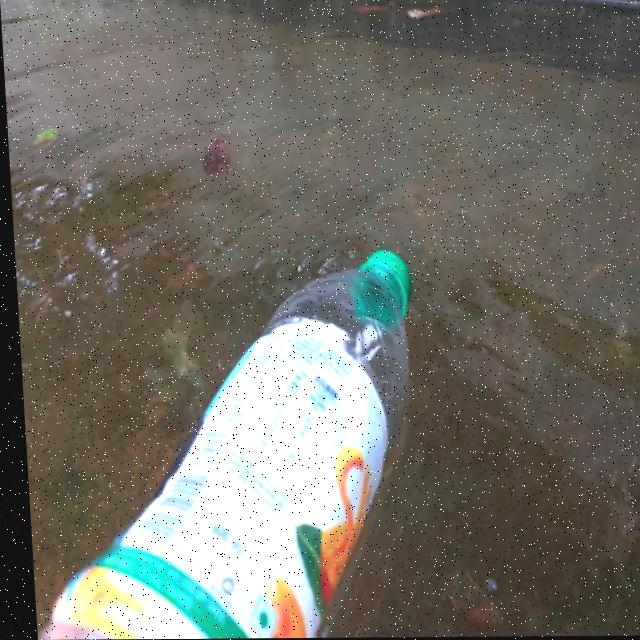leaf: (345, 0, 471, 59), (178, 126, 249, 192), (35, 99, 64, 155)
waterbottle: (11, 230, 451, 640)
